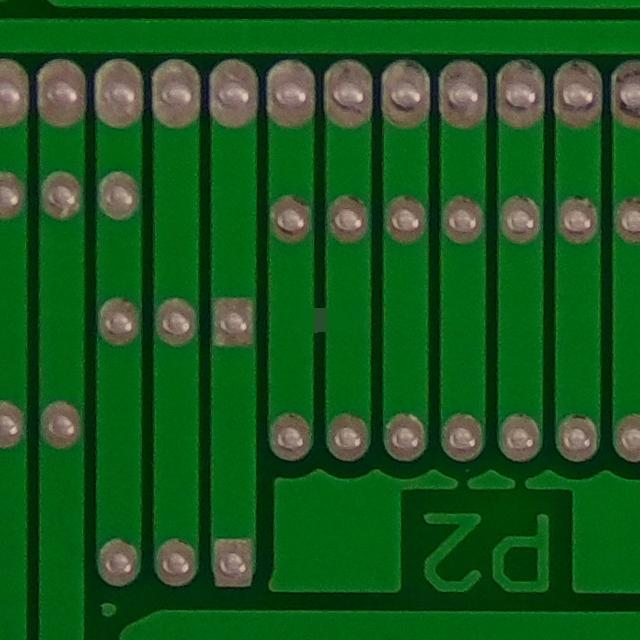short: (276, 273, 365, 367)
